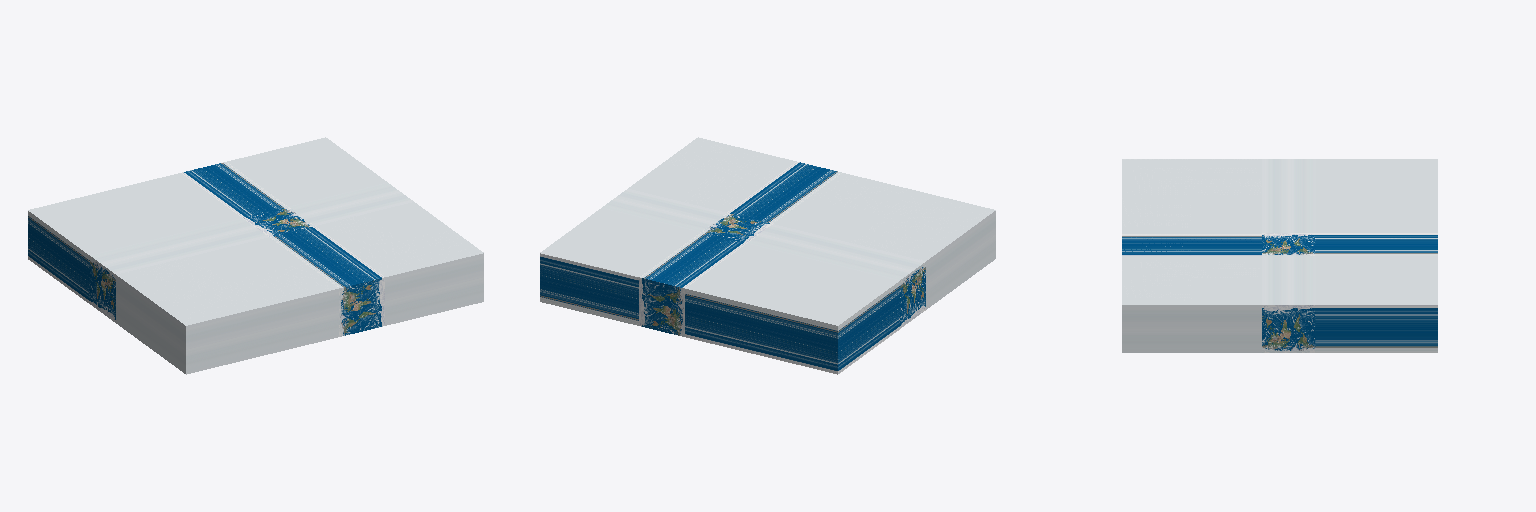
The picture shows the model from 3 angles: view 1: azimuth 30°, elevation 25°; view 2: azimuth 150°, elevation 25°; view 3: azimuth 270°, elevation 25°; orthographic projection.
Parts seen in each view (by area): view 1: Cube; view 2: Cube; view 3: Cube.
Part boxes in pixels (bbox=[...]): Cube: bbox=[28, 137, 483, 374]; Cube: bbox=[540, 137, 995, 374]; Cube: bbox=[1122, 159, 1437, 352].
Size of the model in its own units: 12.83 by 2 by 11.78.
Materials: 1 (1 with a texture image).